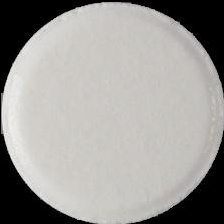0781-1966: (0, 0, 224, 224)
